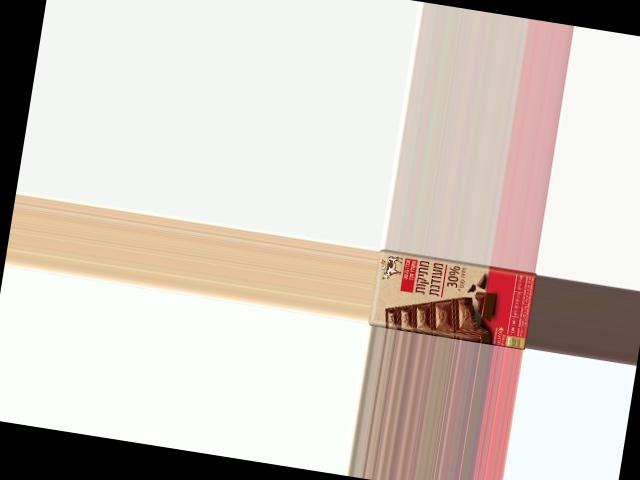chocolate: (367, 247, 536, 349)
